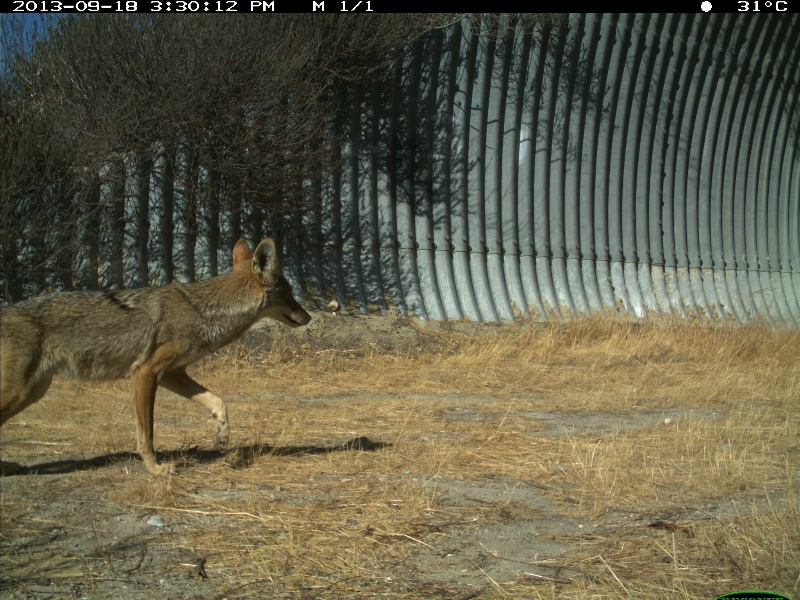coyote: (1, 231, 312, 481)
